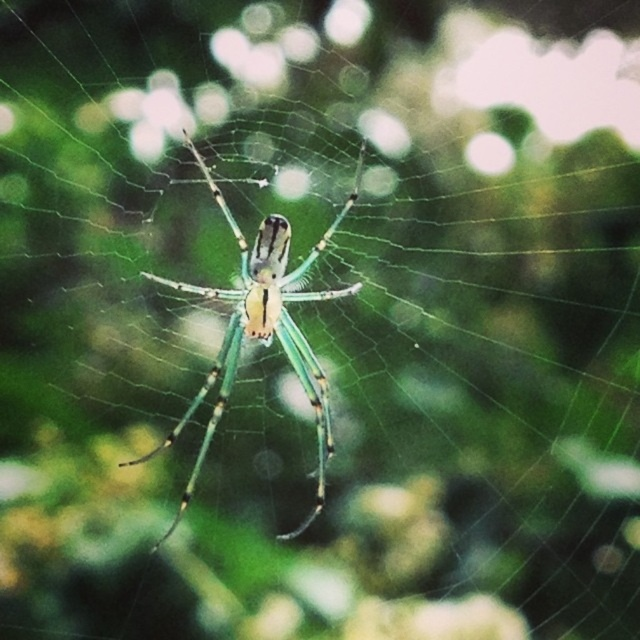Spider: (117, 128, 362, 558)
